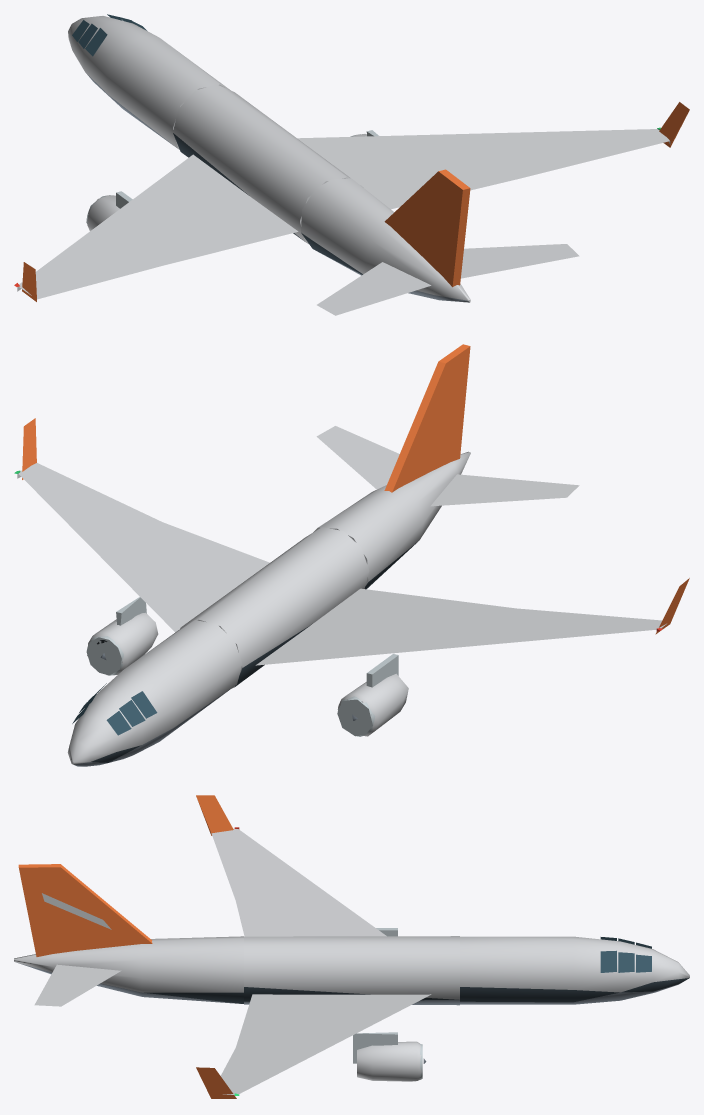
Rendered from stratus-lod1.glb.
3 views of the same model, one above another, from view 1: azimuth 30°, elevation 25°; view 2: azimuth 150°, elevation 25°; view 3: azimuth 270°, elevation 25° (orthographic). The views are drawn at different scales.
Parts seen in each view (by area): view 1: distant_airframe; view 2: distant_airframe; view 3: distant_airframe.
Boxes of the visible parts, box(x1,y1,x2,y2) form: distant_airframe: box(14, 14, 689, 315); distant_airframe: box(14, 344, 689, 766); distant_airframe: box(14, 795, 689, 1098).
Bounding box in the file's own units: 29.58 × 8.21 × 31.
